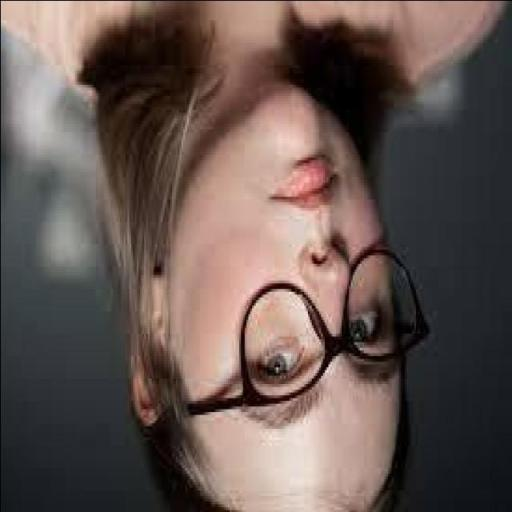glasses: (205, 249, 449, 409)
